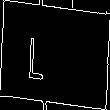L_N: (46, 28, 64, 82)
